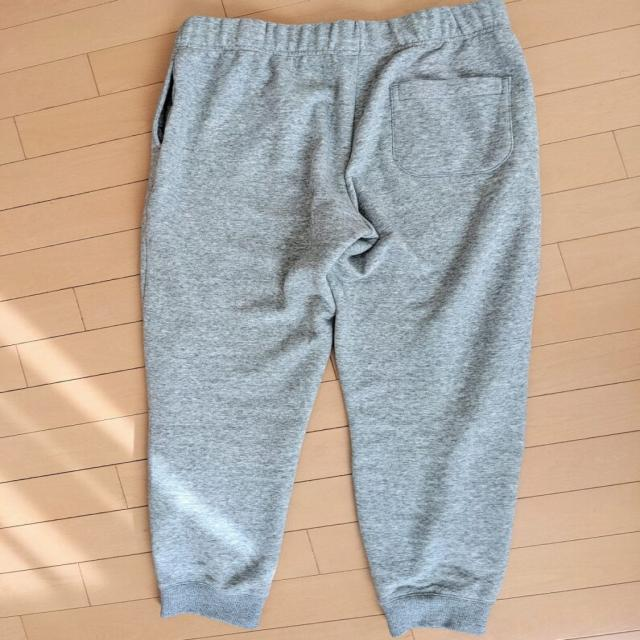long-pants: (138, 0, 542, 639)
